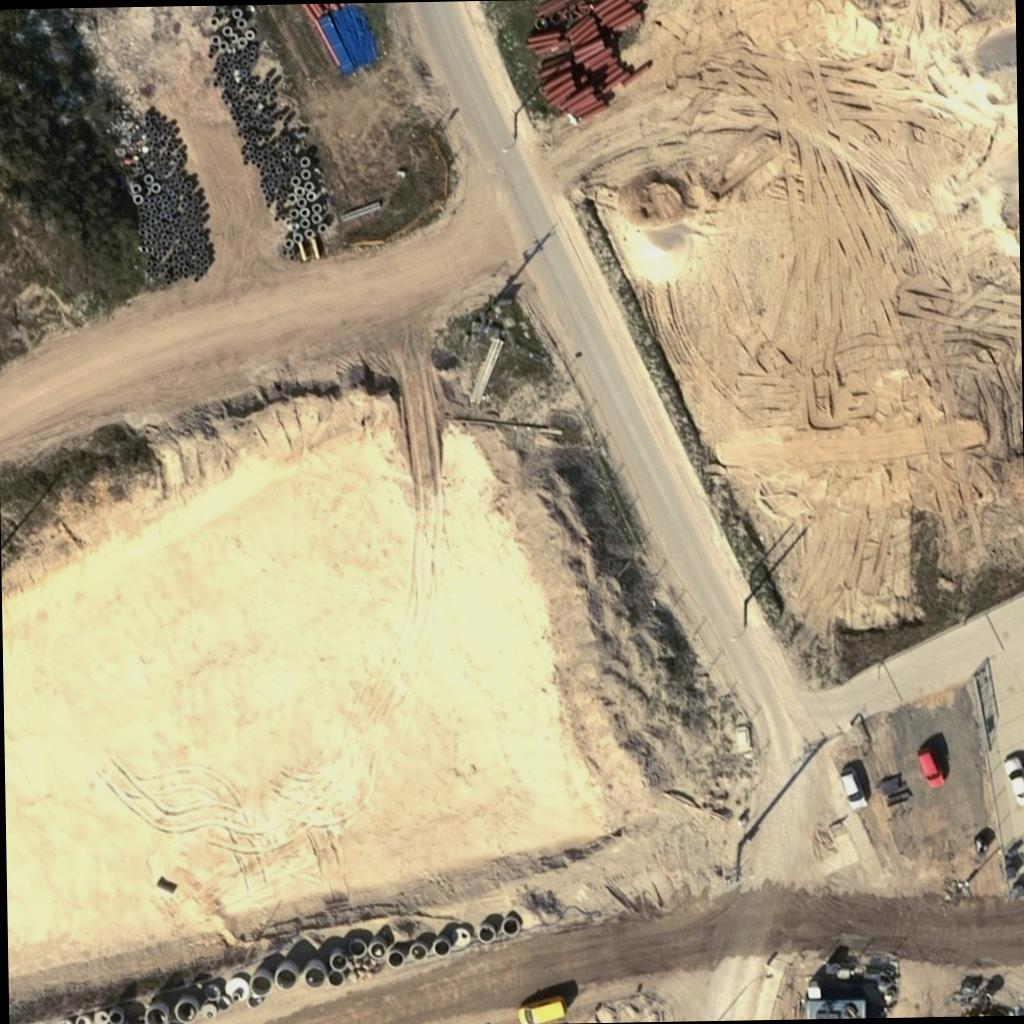samochod_osobowy: (831, 766, 871, 814), (512, 993, 570, 1024), (912, 750, 950, 792), (996, 755, 1024, 811)
